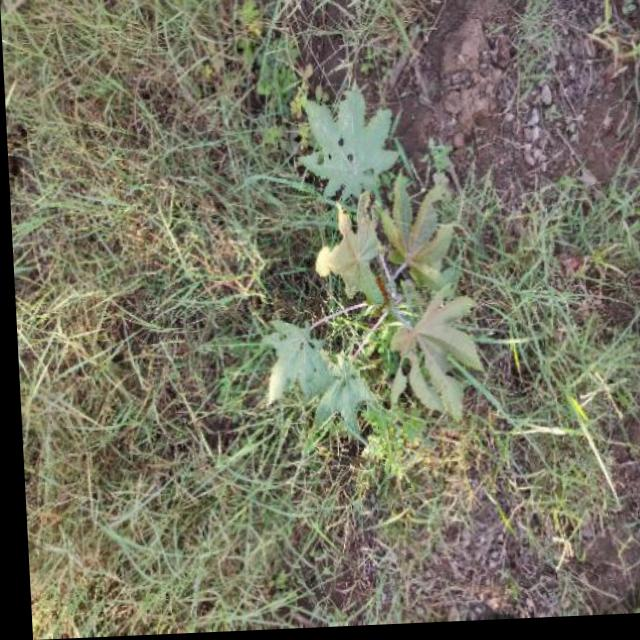weed: (18, 28, 302, 600), (217, 99, 516, 446)
